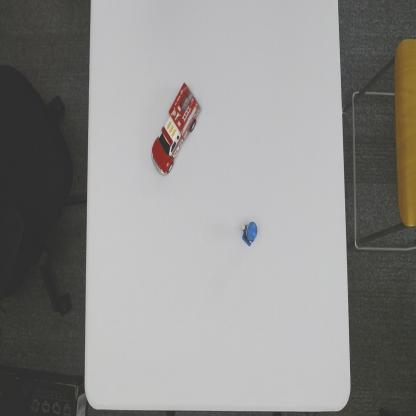Firetruck: (149, 80, 202, 179)
